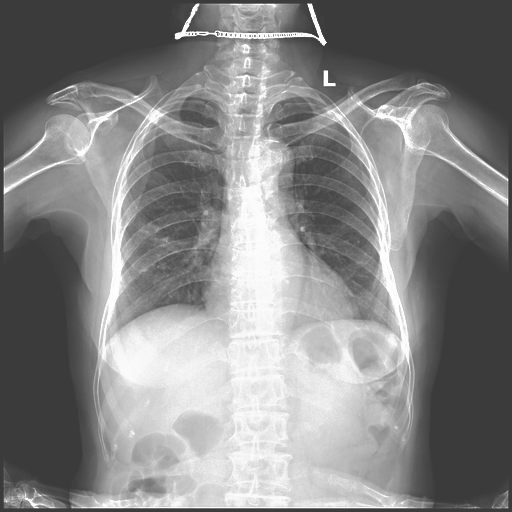Consolidation: (249, 137, 294, 181)
Nodule/Mass: (199, 280, 362, 317)
Other lesion: (140, 227, 169, 271)
Pneumothorax: (143, 221, 169, 271)
